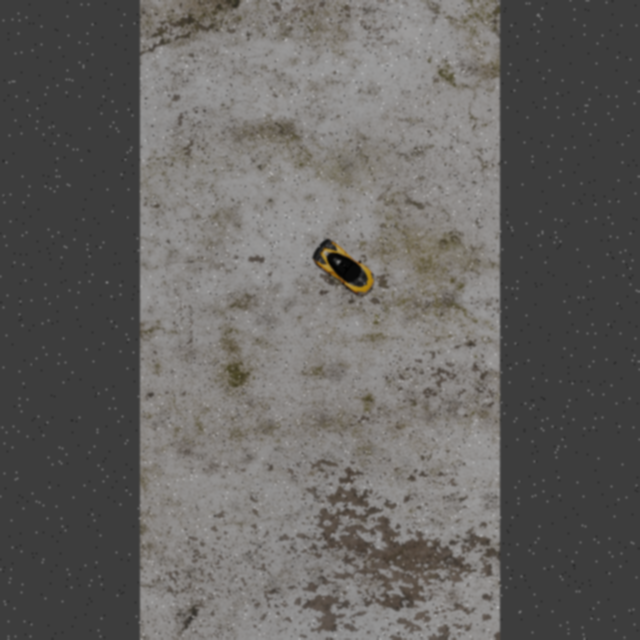car: (307, 234, 380, 300)
